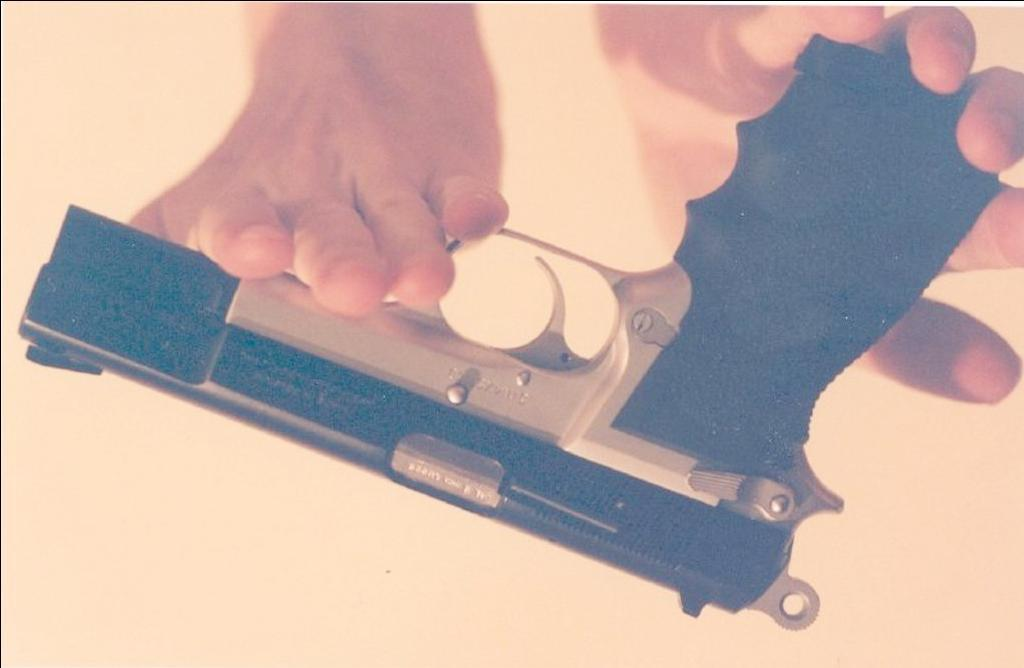gun: (16, 34, 988, 636)
